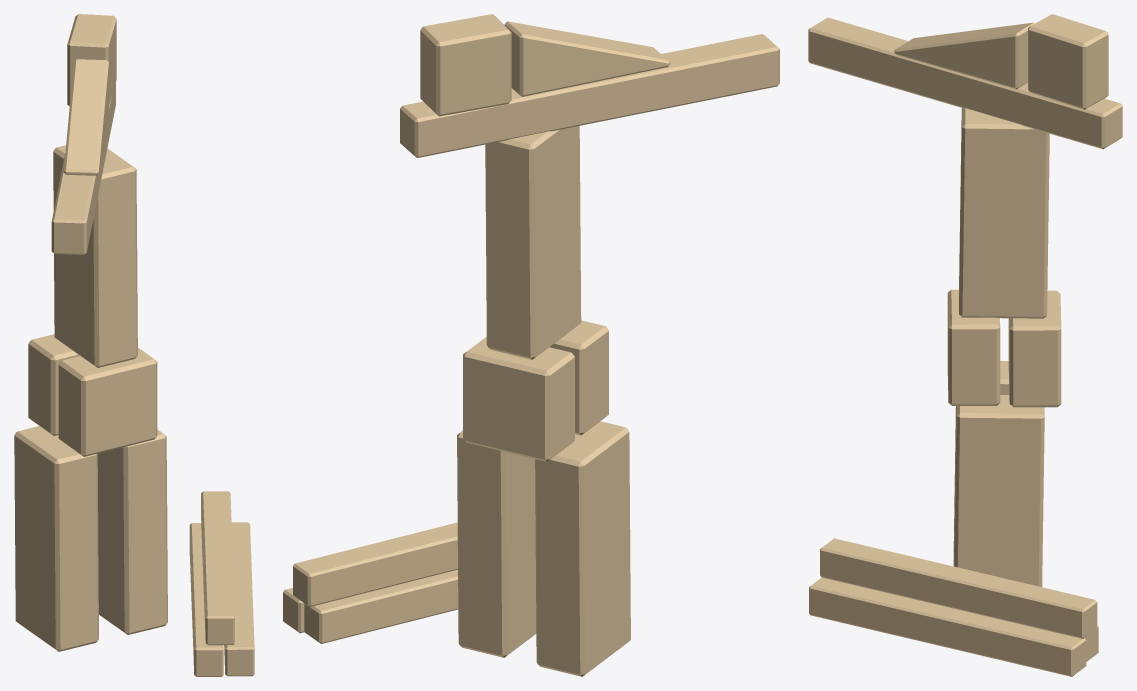
Rendered from COTR_1_d.glb.
The picture shows the model from 3 angles, left to right: view 1: azimuth 30°, elevation 25°; view 2: azimuth 150°, elevation 25°; view 3: azimuth 270°, elevation 25°; orthographic projection. The views are drawn at different scales.
Visible parts, largest first — view 1: CUBE_LON.014, CUBE_LON.016, CUBE_LON.011, CUBE_SMOL.021, d1, CUBE_LON.027, d33, d, CUBE_SMOL.020, CUBE_SMOL.022, d3; view 2: CUBE_LON.014, CUBE_LON.016, d33, CUBE_LON.011, CUBE_SMOL.020, CUBE_SMOL.022, d1, CUBE_LON.027, d3, CUBE_SMOL.021, d; view 3: CUBE_LON.016, CUBE_LON.011, d33, d1, d, CUBE_SMOL.022, CUBE_LON.027, CUBE_SMOL.020, CUBE_SMOL.021, CUBE_LON.014.
Boxes of the visible parts, box(x1,y1,x2,y2) form: CUBE_LON.014: box(14, 426, 98, 651); CUBE_LON.016: box(53, 145, 137, 367); CUBE_LON.011: box(97, 429, 167, 634); CUBE_SMOL.021: box(58, 347, 157, 456); d1: box(201, 491, 234, 645); CUBE_LON.027: box(63, 59, 108, 175); d33: box(51, 82, 115, 254); d: box(224, 522, 254, 676); CUBE_SMOL.020: box(28, 334, 79, 435); CUBE_SMOL.022: box(67, 14, 116, 106); d3: box(189, 523, 223, 676); CUBE_LON.014: box(535, 421, 630, 676); CUBE_LON.016: box(485, 126, 581, 359); d33: box(400, 34, 779, 157); CUBE_LON.011: box(457, 430, 536, 657); CUBE_SMOL.020: box(463, 337, 574, 461); CUBE_SMOL.022: box(420, 14, 511, 116); d1: box(293, 522, 457, 606); CUBE_LON.027: box(504, 21, 670, 96); d3: box(304, 569, 458, 643); CUBE_SMOL.021: box(549, 320, 608, 435); d: box(283, 588, 304, 633); CUBE_LON.016: box(959, 108, 1049, 318); CUBE_LON.011: box(954, 395, 1044, 586); d33: box(808, 17, 1122, 149); d1: box(820, 538, 1097, 638); d: box(809, 577, 1086, 676); CUBE_SMOL.022: box(1028, 14, 1108, 109); CUBE_LON.027: box(894, 22, 1034, 89); CUBE_SMOL.020: box(1008, 290, 1061, 407); CUBE_SMOL.021: box(947, 289, 1000, 405); CUBE_LON.014: box(953, 361, 1009, 565).
Size of the model in its own units: 19.67 by 33.29 by 16.64.
